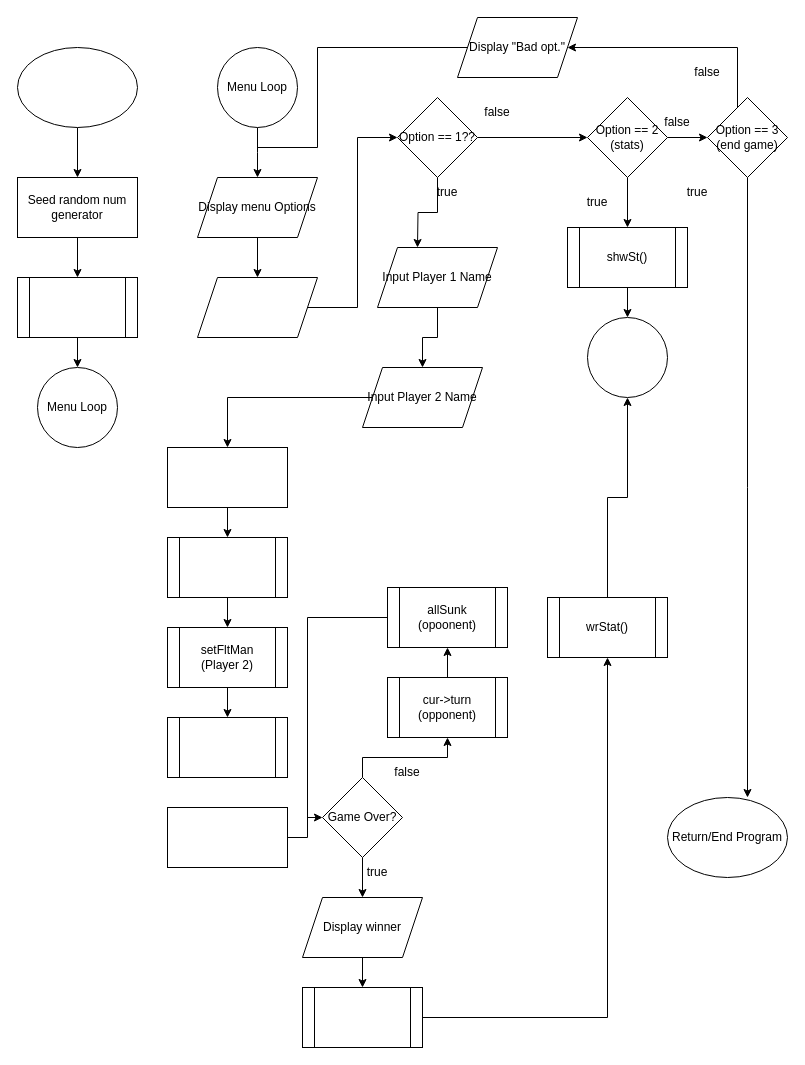
This 805x1065 diagram has some shape labels left out. Each missing label, with the centre of its shape:
"Create Player Objects" goes at [227,477].
"Input menu Option" goes at [257,307].
"pickFr (Player1, Player 2)" goes at [227,747].
"rdStat()" goes at [77,307].
"return to Menu" goes at [627,357].
"Set current player" goes at [227,837].
"setFltMan (Player 1)" goes at [227,567].
"Start main()" goes at [77,87].
"updSt()" goes at [362,1017].
